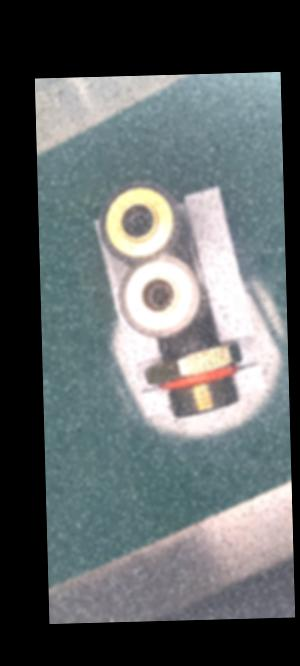craze: (180, 334, 193, 357)
